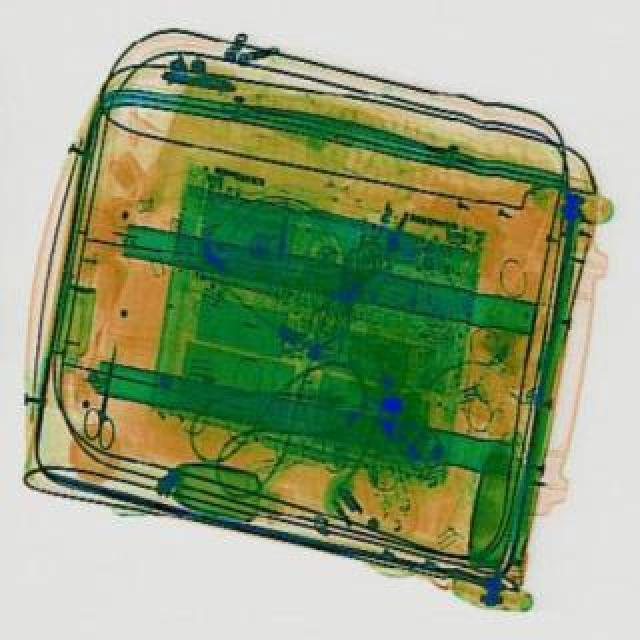pliers: (76, 342, 134, 450)
